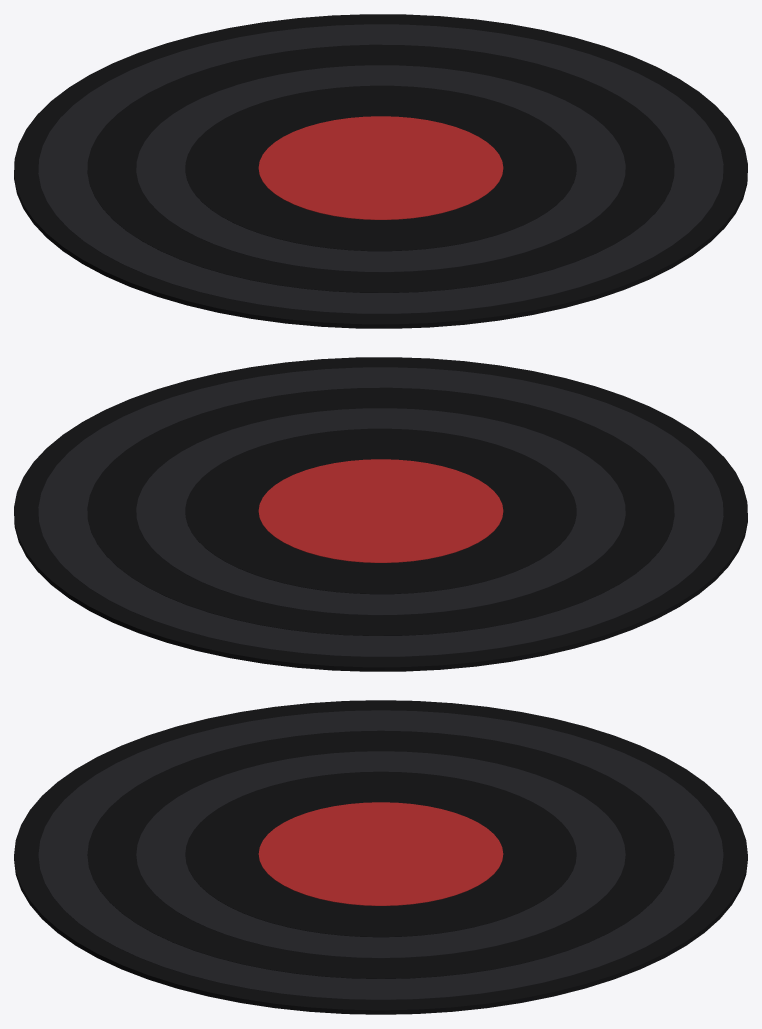
Rendered from RecordRed.fbx.
3 views of the same model, one above another, from view 1: azimuth 30°, elevation 25°; view 2: azimuth 150°, elevation 25°; view 3: azimuth 270°, elevation 25° (orthographic).
Visible parts, largest first — view 1: RecordRed; view 2: RecordRed; view 3: RecordRed.
Part boxes in pixels (<box>): RecordRed: <box>14,14,747,328</box>; RecordRed: <box>14,357,747,671</box>; RecordRed: <box>14,700,747,1014</box>.
Bounding box in the file's own units: 30 × 0.26 × 30.
